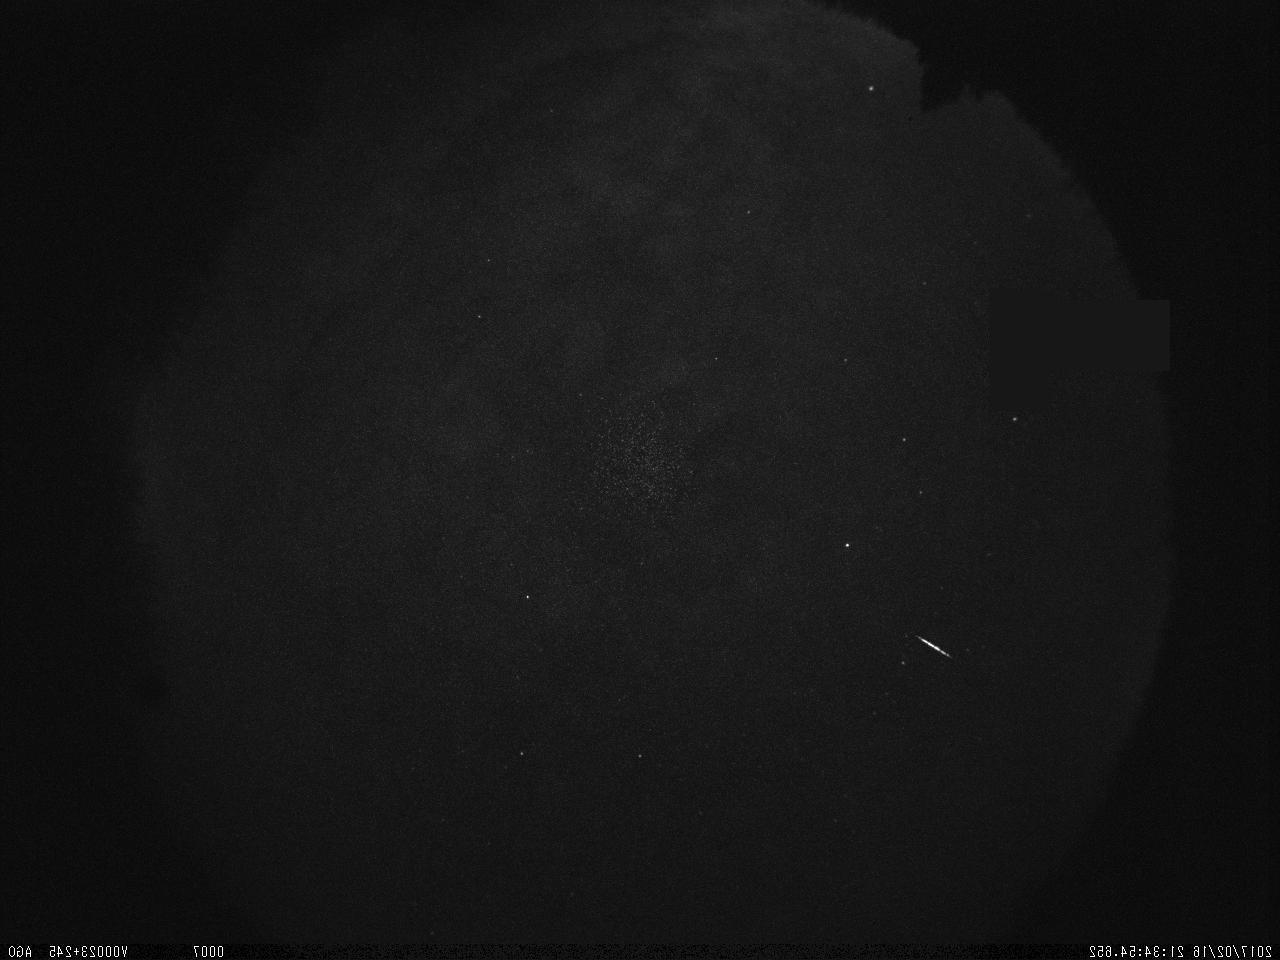meteor: (909, 626, 958, 665)
